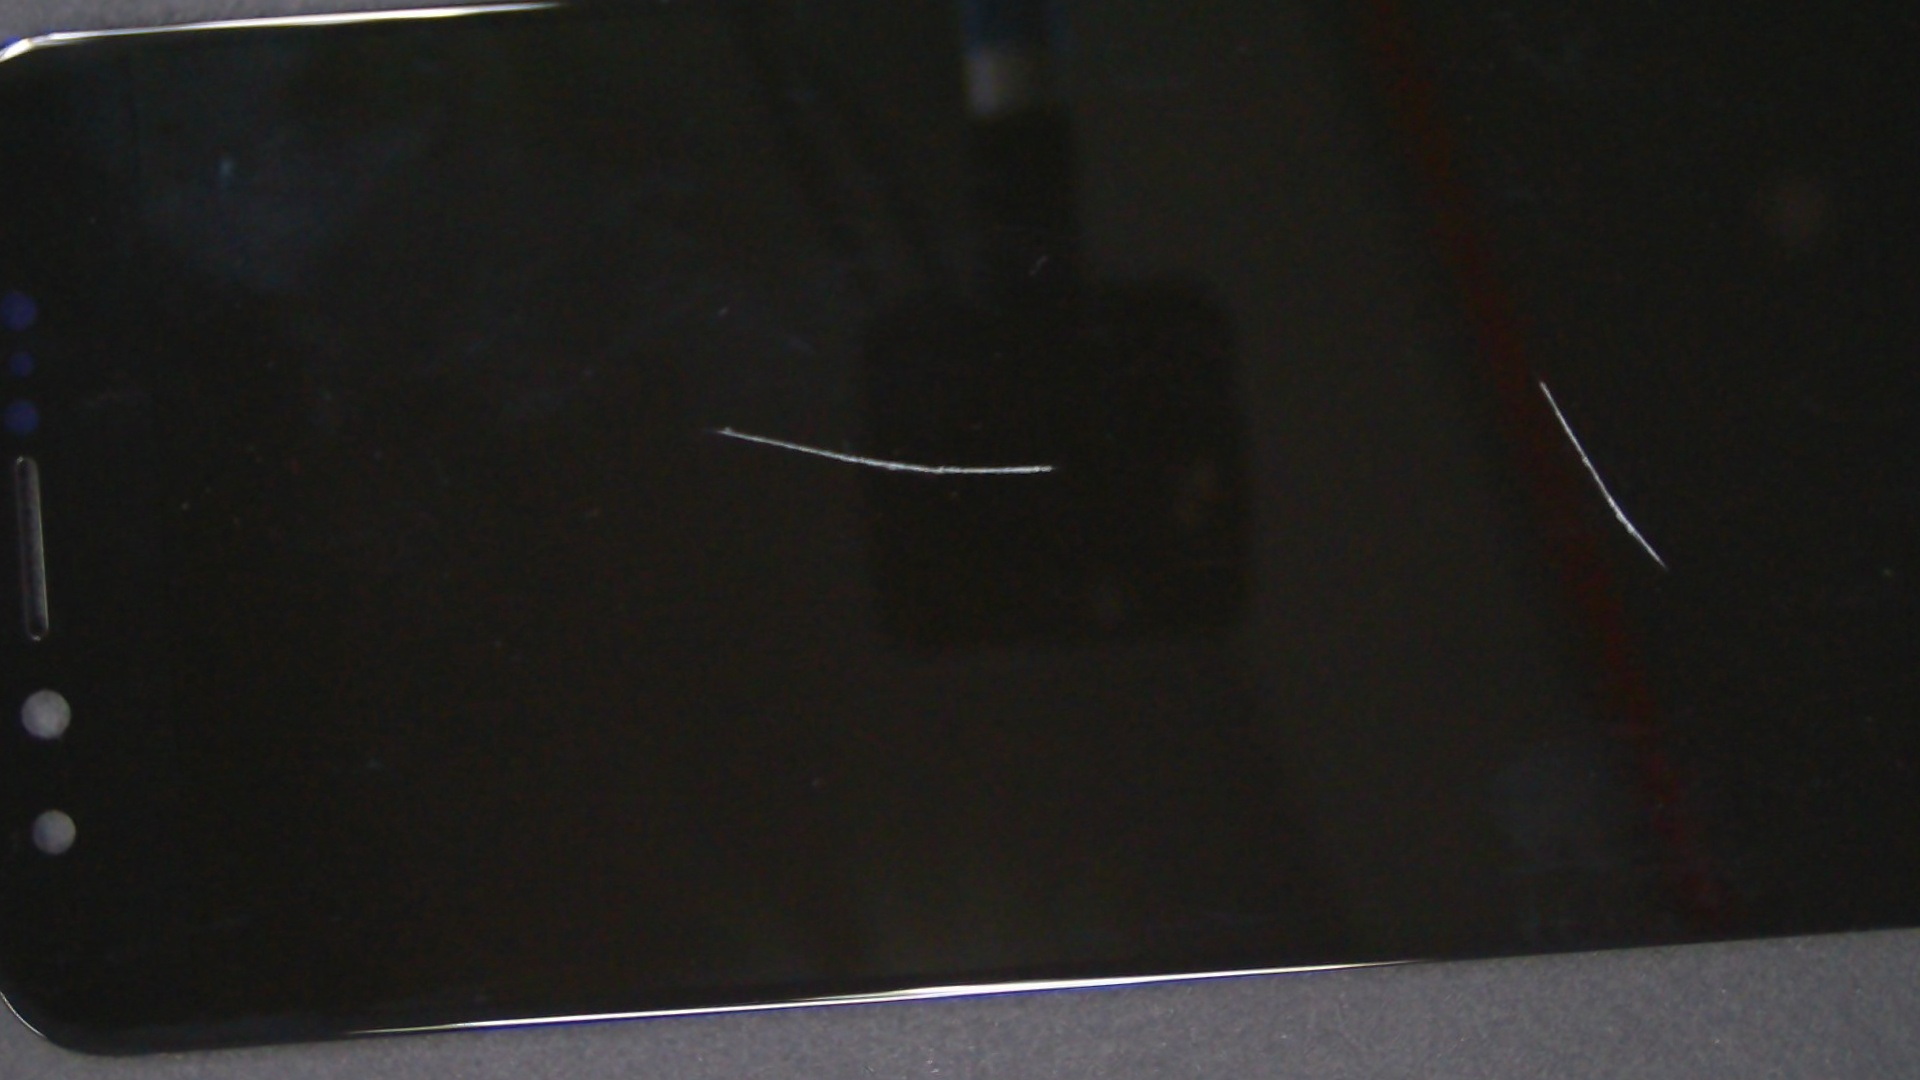oil: (699, 61, 1920, 715), (291, 132, 1162, 720)
